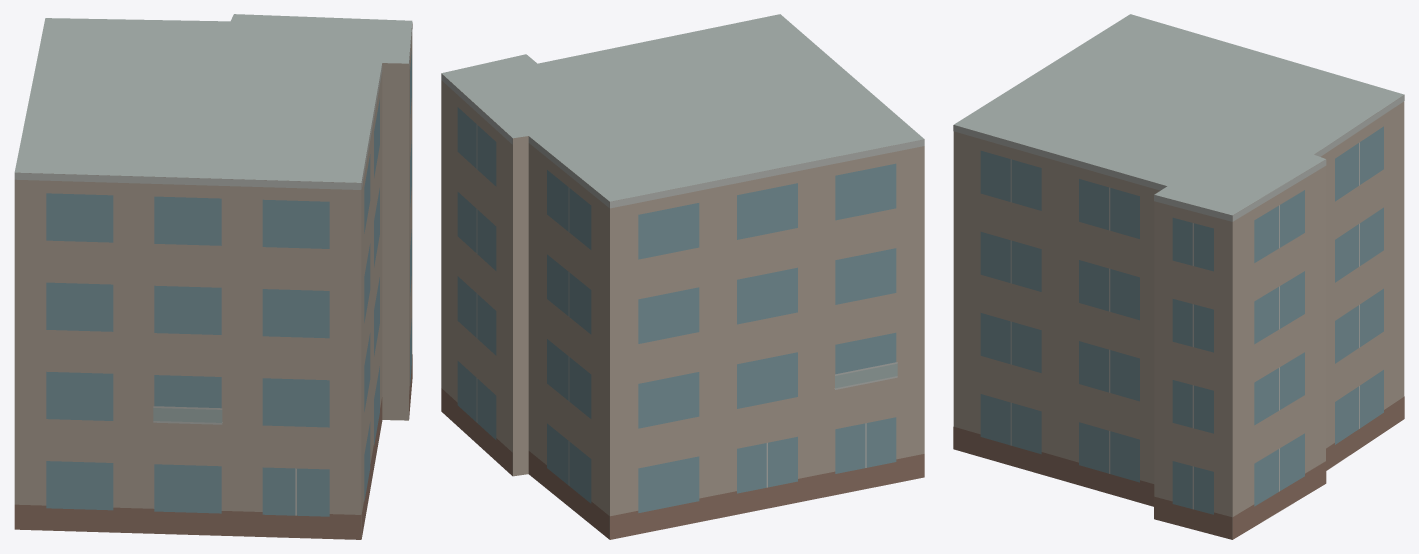
The model's file is survey-upis-32918623.glb.
3 renders of one model, left to right at view 1: azimuth 30°, elevation 25°; view 2: azimuth 150°, elevation 25°; view 3: azimuth 270°, elevation 25°, orthographic. The views are drawn at different scales.
Visible parts, largest first — view 1: survey-upis-32918623.tmp; view 2: survey-upis-32918623.tmp; view 3: survey-upis-32918623.tmp.
Boxes of the visible parts, left/top/right/bottom form: survey-upis-32918623.tmp: left=14, top=14, right=412, bottom=539; survey-upis-32918623.tmp: left=441, top=14, right=924, bottom=539; survey-upis-32918623.tmp: left=953, top=14, right=1404, bottom=539.
Bounding box in the file's own units: 16.25 × 12.2 × 15.38.
